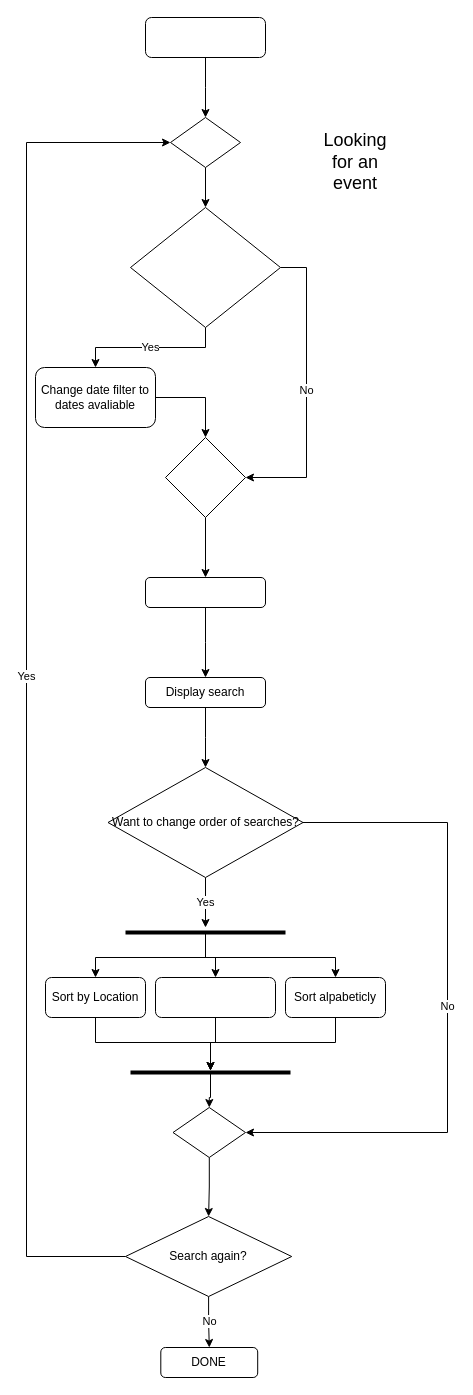
This 473x1395 diagram has some shape labels left out. Each missing label, with the centre of its shape:
Enter search: pixel 205 592
Is there a specific date restrictions?: pixel 205 267
Select the search bar: pixel 205 37
Sort by start date: pixel 215 997
